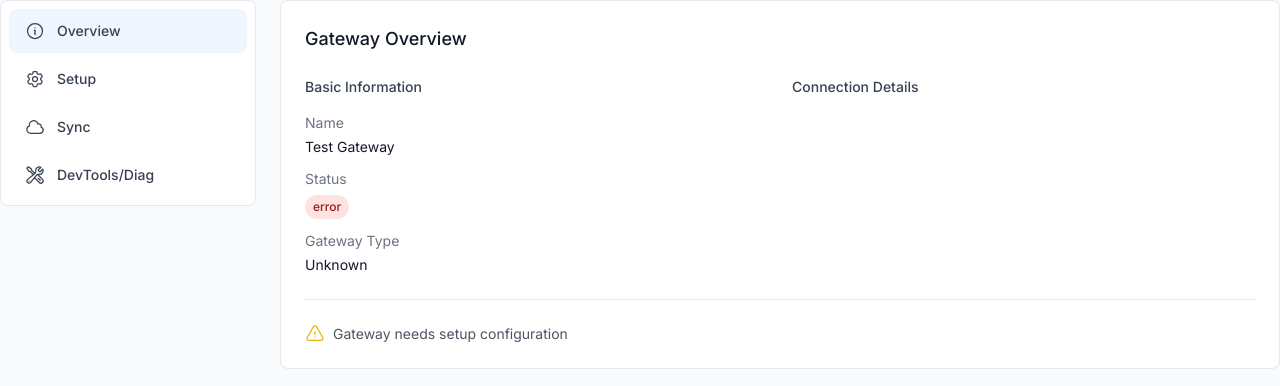
Test: FacilityGatewayTab › Sync Now › should handle sync failure
Click the Sync tab
What coordinates should you click on to do the following:
click the button "Sync"
I would click on:
 (128, 127)
Its box is [9,105,247,149].
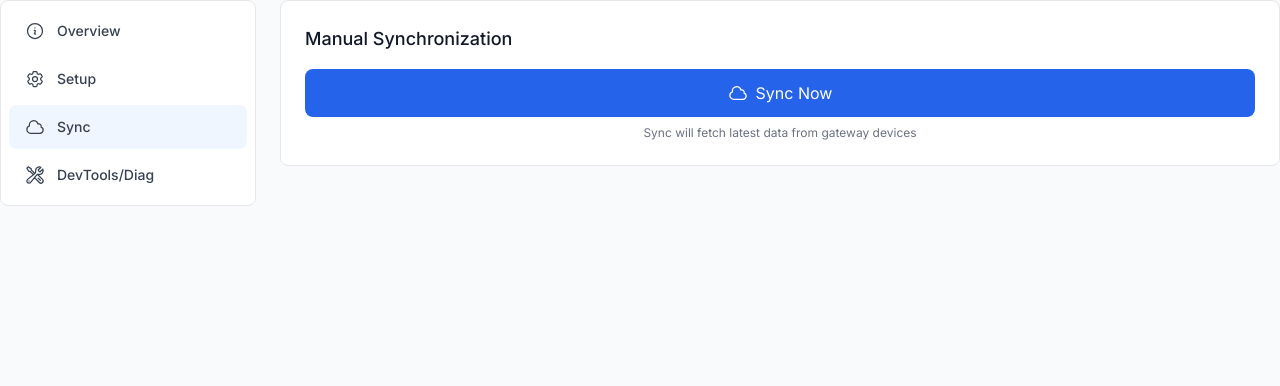
Expected: the button "Sync Now" is shown
What coordinates should you click on to do the following:
click the button "Sync Now"
I would click on:
 (780, 93)
Its box is [305,69,1255,117].
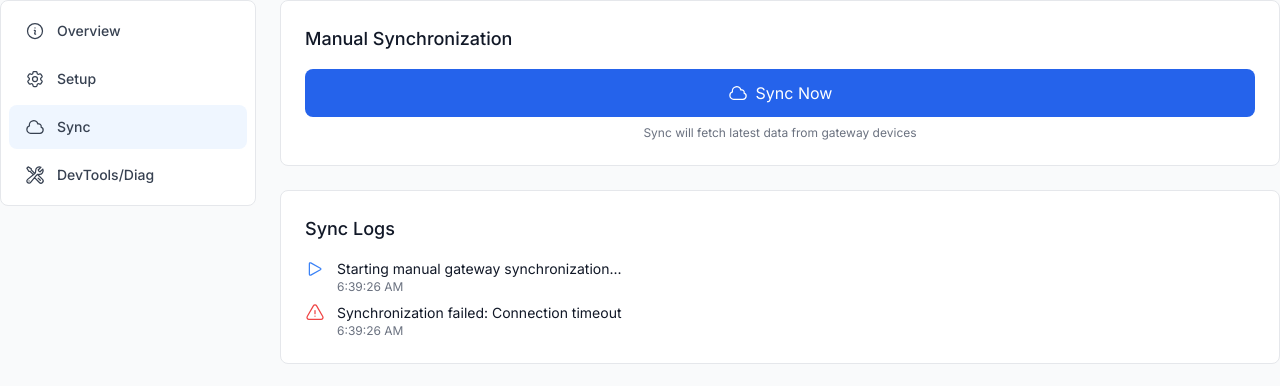
Expected: the text "Starting manual gateway synchronization..." is shown, [337,260,622,277]
